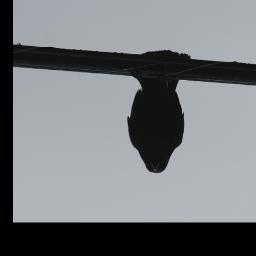Crow: (125, 49, 189, 173)
